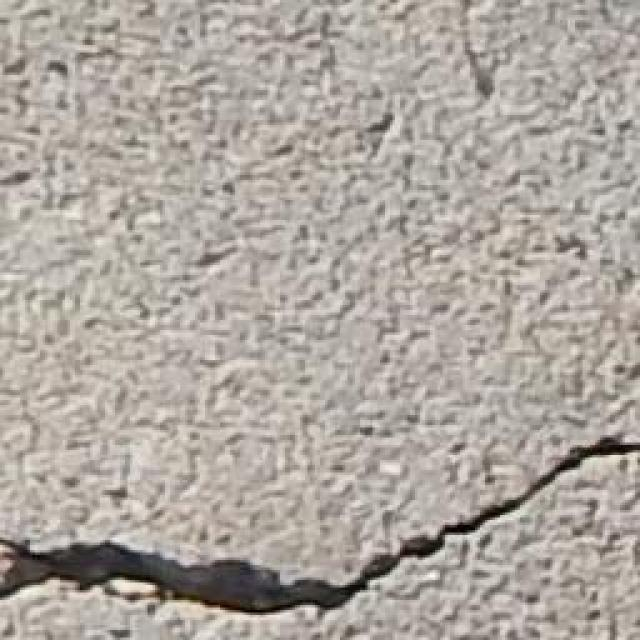concrete-crack: (0, 429, 639, 619)
